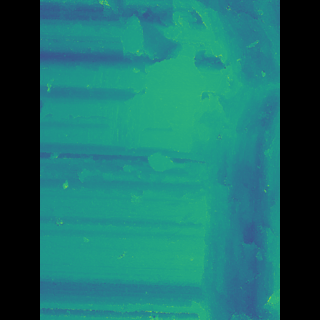Loch: (188, 0, 249, 320), (105, 0, 191, 167)
